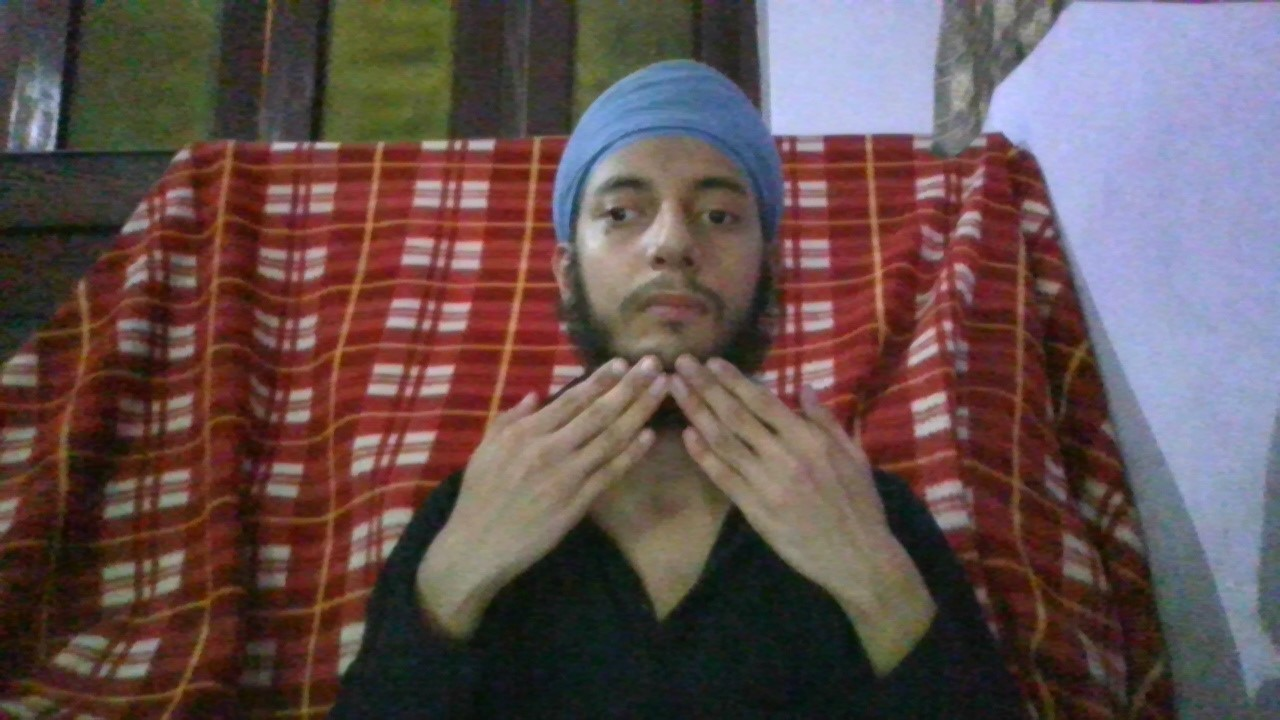Thank You: (448, 352, 889, 568)
